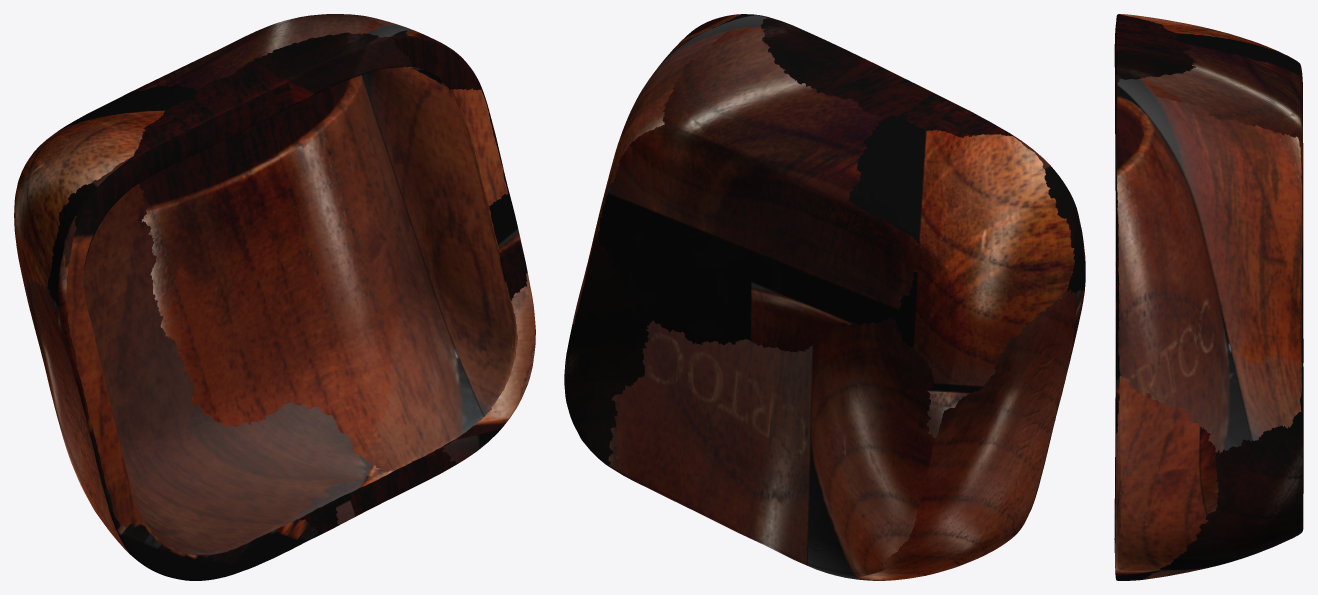
3 renders of one model, left to right at view 1: azimuth 30°, elevation 25°; view 2: azimuth 150°, elevation 25°; view 3: azimuth 270°, elevation 25°, orthographic. The views are drawn at different scales.
Parts seen in each view (by area): view 1: 20200831_004_wan2; view 2: 20200831_004_wan2; view 3: 20200831_004_wan2.
Part boxes in pixels (left/top/right/bottom): 20200831_004_wan2: left=14, top=14, right=535, bottom=580; 20200831_004_wan2: left=564, top=14, right=1085, bottom=580; 20200831_004_wan2: left=1114, top=14, right=1303, bottom=580.
Size of the model in its own units: 137 by 137 by 45.21.
